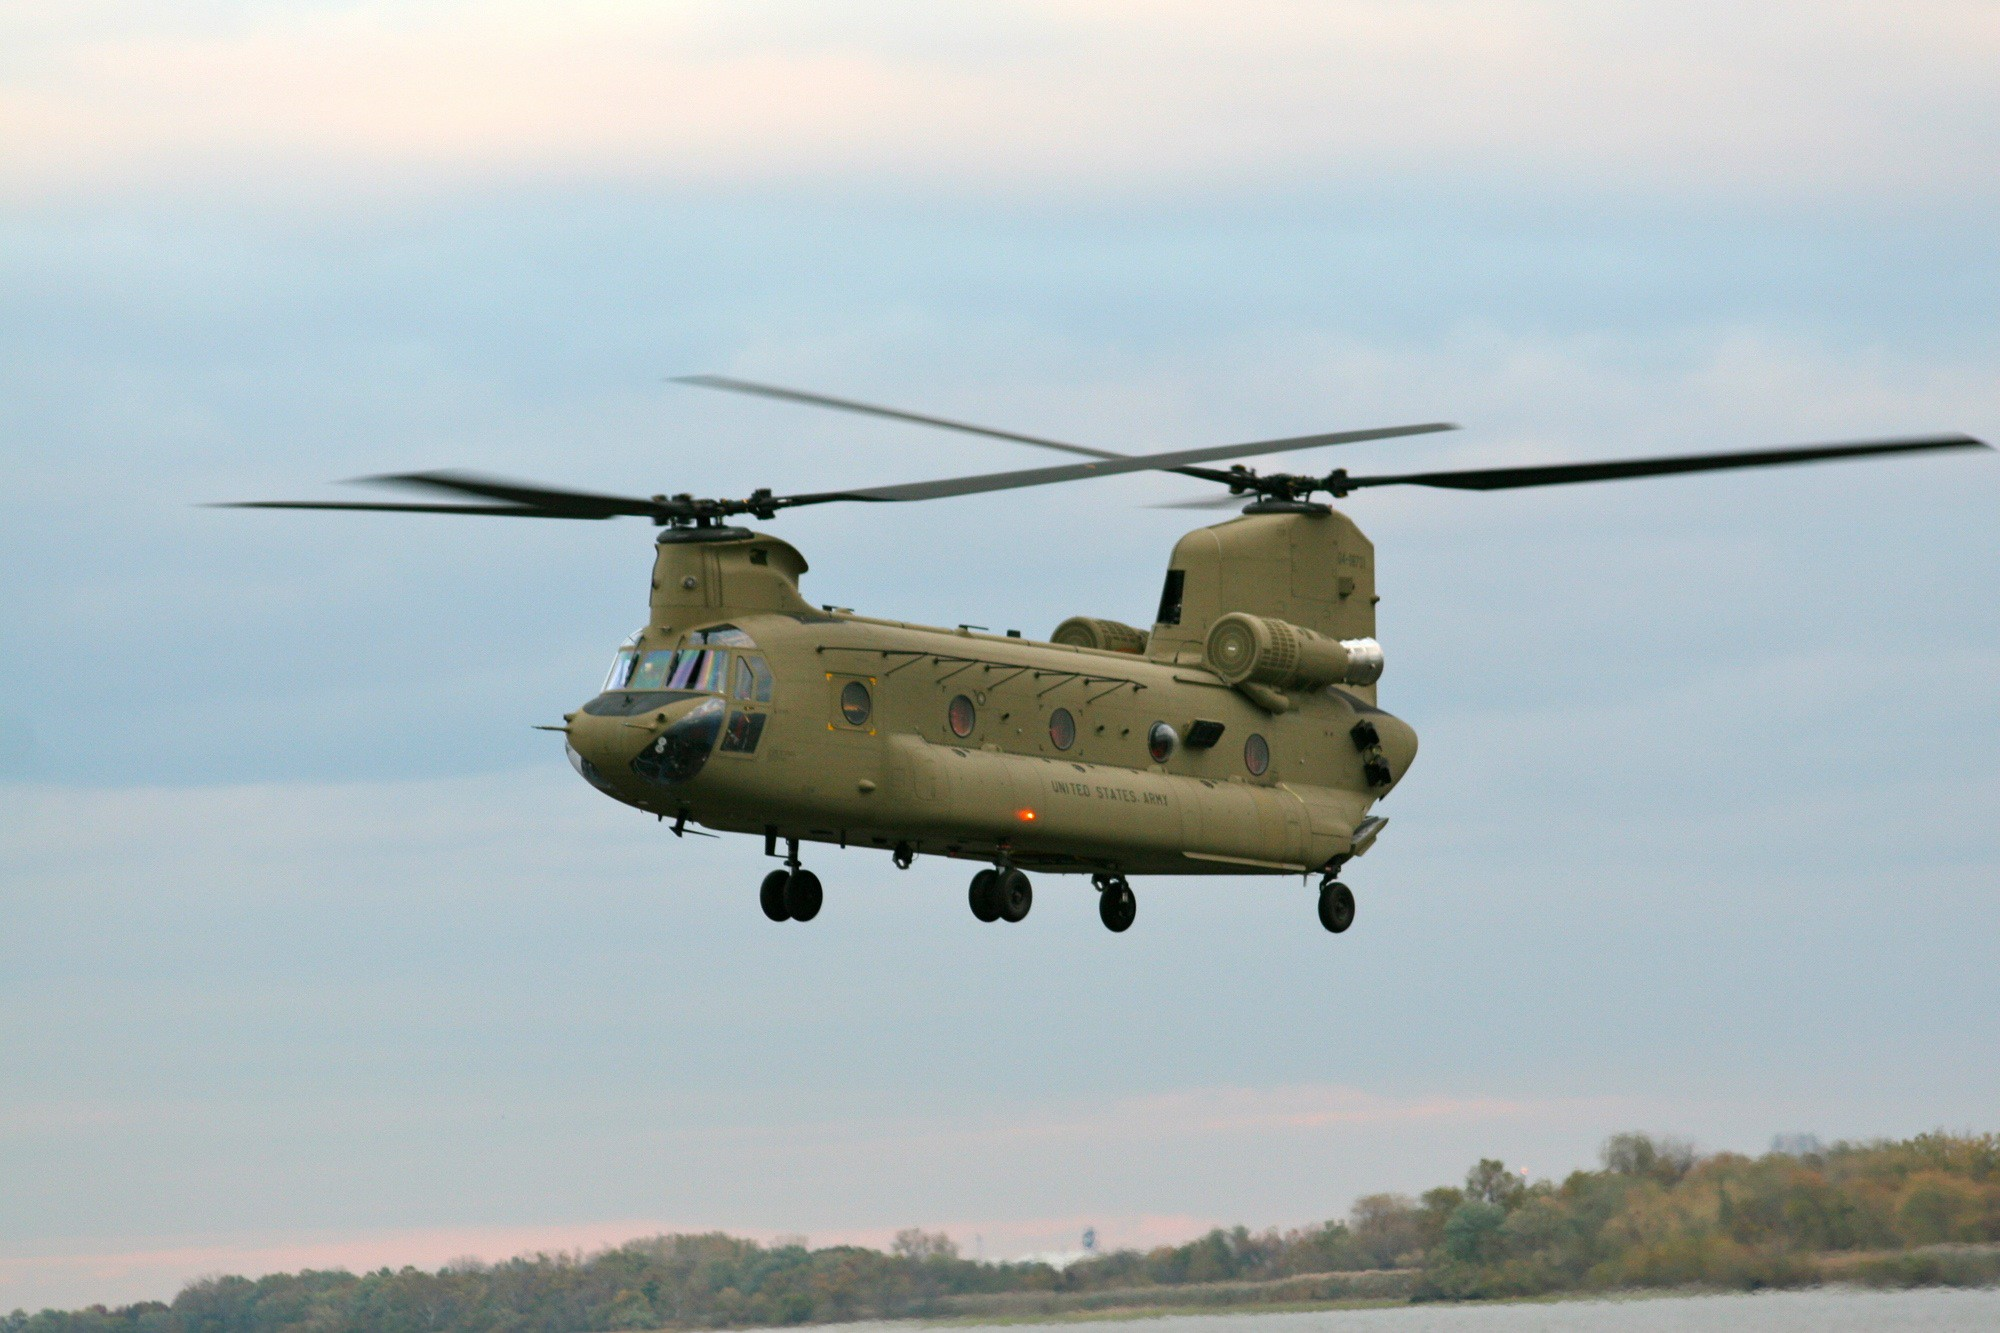chinook: (349, 440, 1753, 948)
